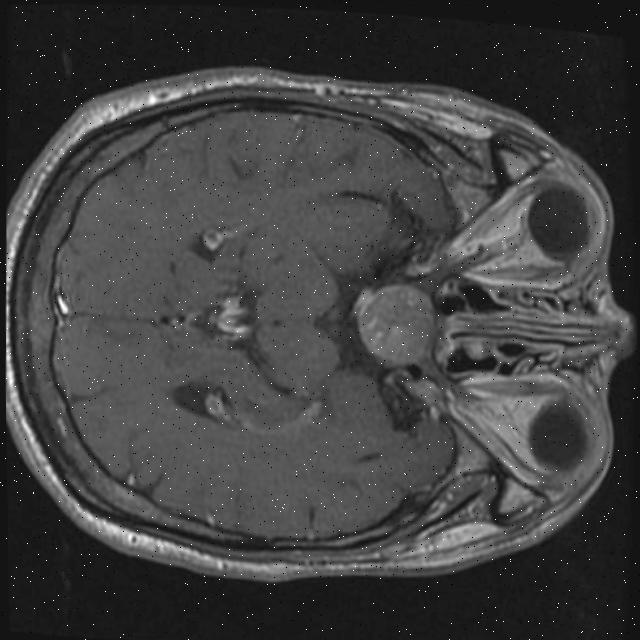Pituitary: (355, 283, 437, 368)
